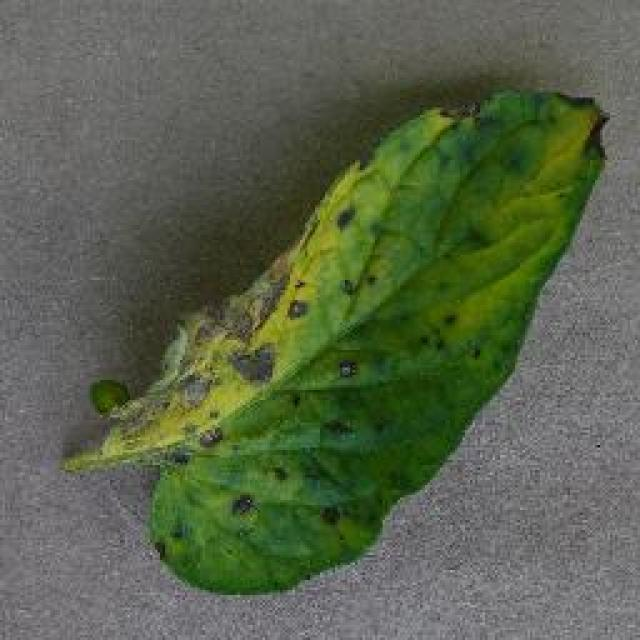Tomato_Early_Blight: (98, 186, 394, 467)
